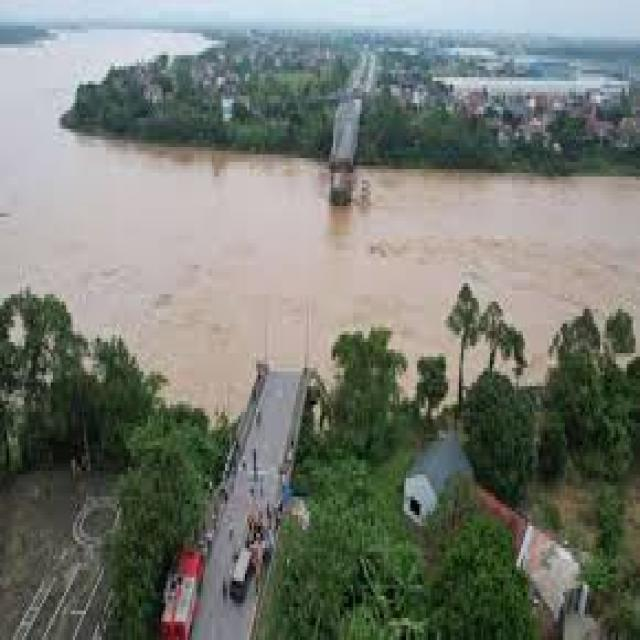bridge collapse: (207, 65, 421, 552)
